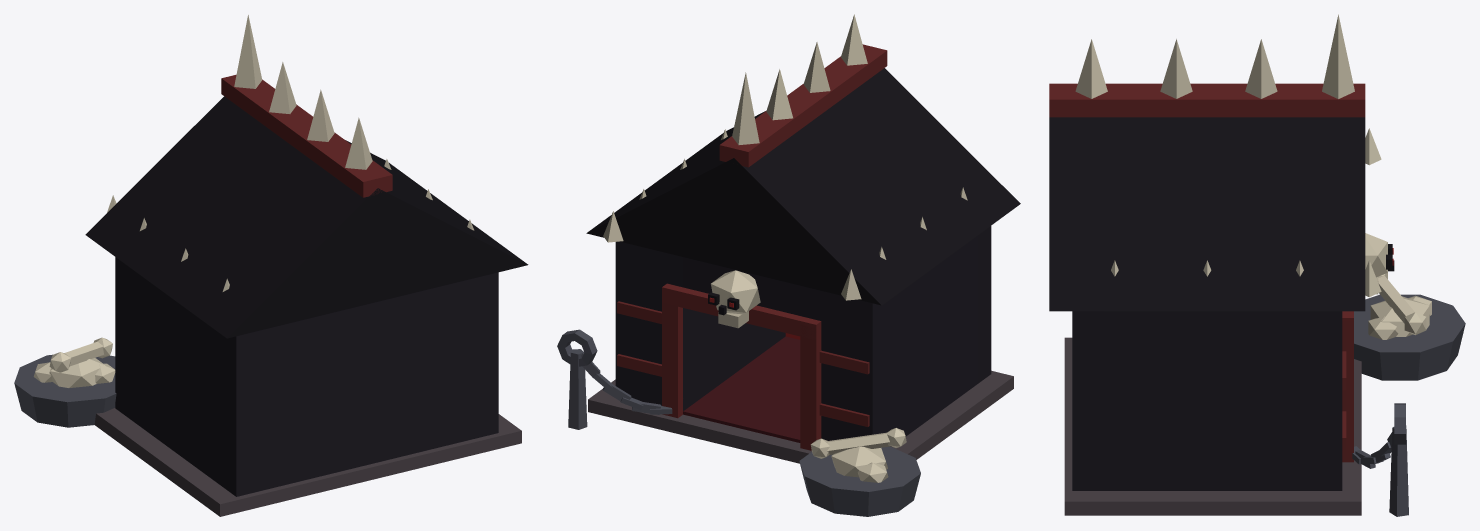
Rendered from Decor_HellGate_HellKennel.fbx.
3 views of the same model, side by side, from view 1: azimuth 30°, elevation 25°; view 2: azimuth 150°, elevation 25°; view 3: azimuth 270°, elevation 25° (orthographic). The views are drawn at different scales.
Parts seen in each view (by area): view 1: HellKennel_Body; view 2: HellKennel_Body; view 3: HellKennel_Body.
Part boxes in pixels (bbox=[...]): HellKennel_Body: bbox=[14, 15, 528, 516]; HellKennel_Body: bbox=[557, 14, 1020, 516]; HellKennel_Body: bbox=[1049, 14, 1465, 516].
Bounding box in the file's own units: 11.9 × 11.9 × 10.7.
